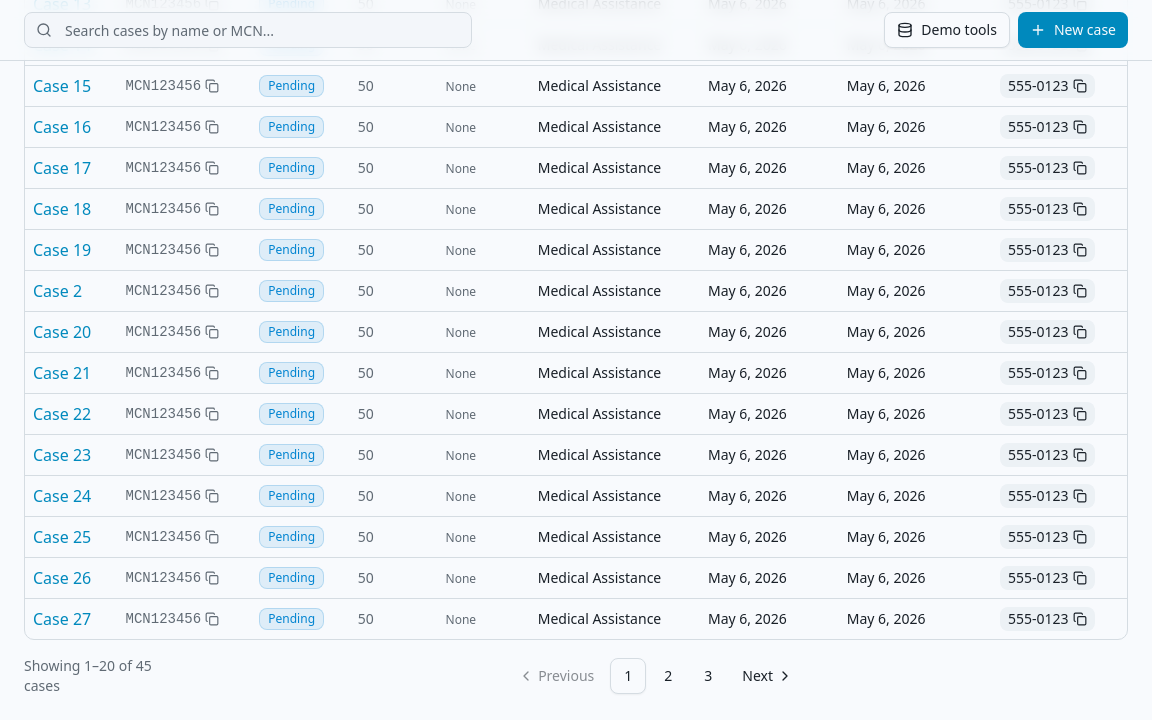
Test case: CaseList pagination › navigates to next page when clicking Next
(page scrolled)
Check: the text "Showing 1–20 of 45 cases" is shown, box [24,656,167,696]
Click next
Click the link with aria-label "next page".
click(768, 675)  # box [742,666,793,684]
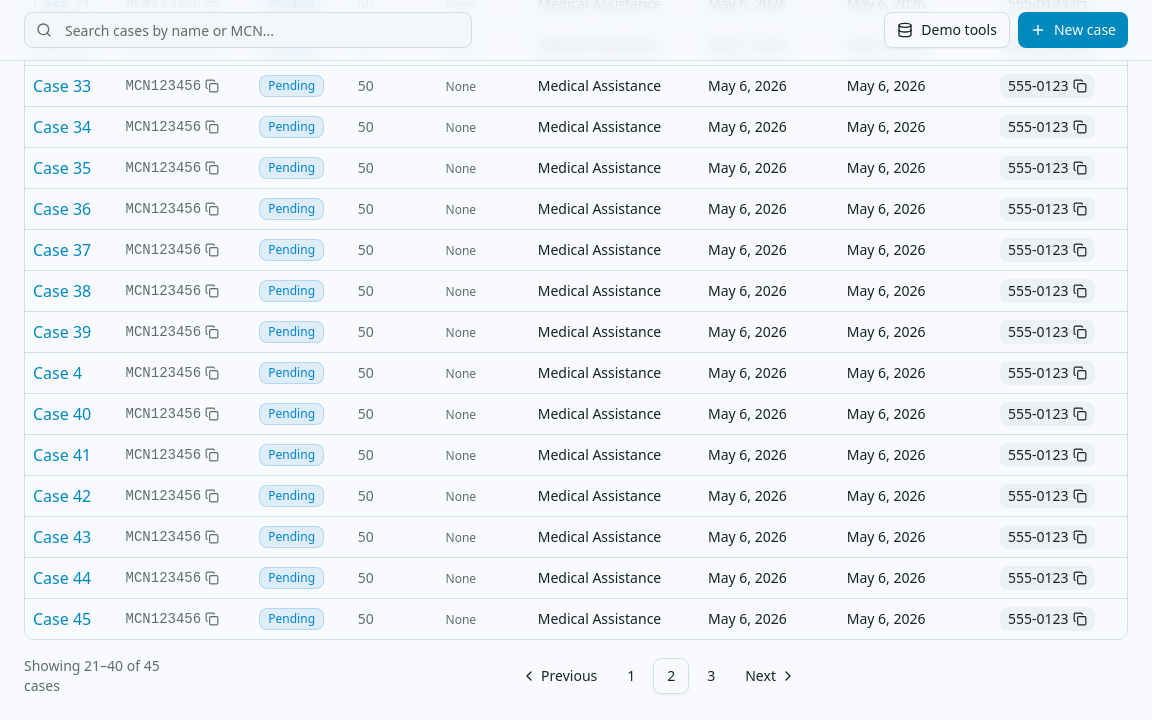
Check: the text "Showing 21–40 of 45 cases" is shown, box [24,656,173,696]
